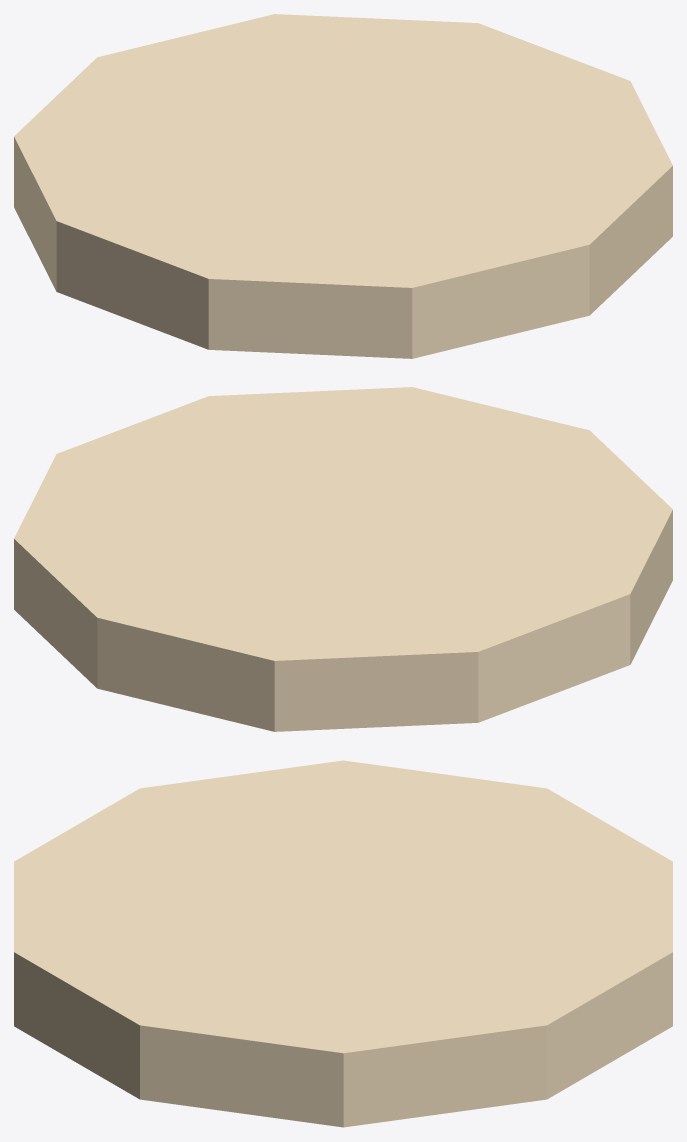
The model's file is TimeClearModel.gltf.
3 renders of one model, top to bottom at view 1: azimuth 30°, elevation 25°; view 2: azimuth 150°, elevation 25°; view 3: azimuth 270°, elevation 25°, orthographic. The views are drawn at different scales.
Visible parts, largest first — view 1: TimeClearModel; view 2: TimeClearModel; view 3: TimeClearModel.
Boxes of the visible parts, x1=… form: TimeClearModel: x1=14, y1=14, x2=672, y2=358; TimeClearModel: x1=14, y1=387, x2=672, y2=731; TimeClearModel: x1=14, y1=760, x2=672, y2=1127.
Size of the model in its own units: 0.8448 by 0.0998 by 0.8034.
